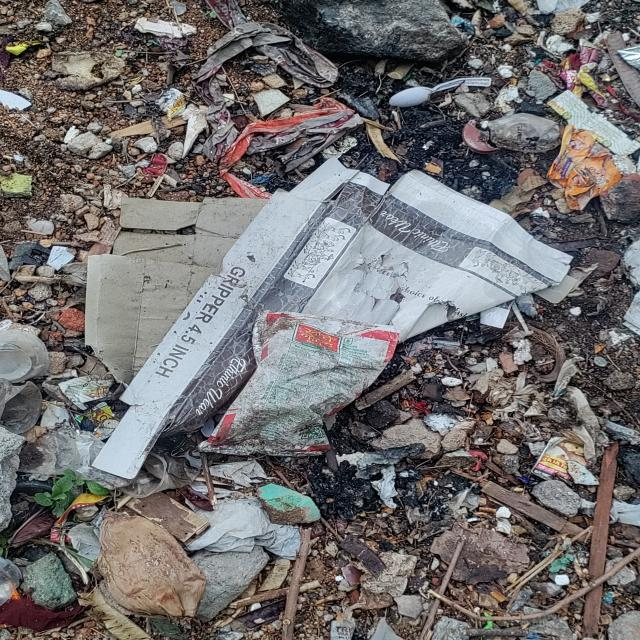paper: (108, 182, 542, 385), (213, 16, 336, 90), (494, 428, 610, 496)
plastic: (377, 71, 516, 108), (150, 83, 192, 117)
